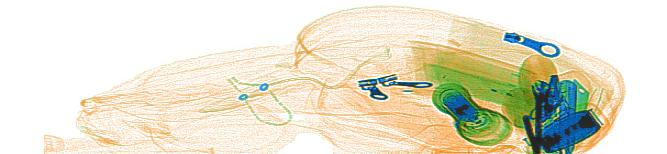battery: (443, 90, 480, 119)
knife: (553, 76, 577, 150)
